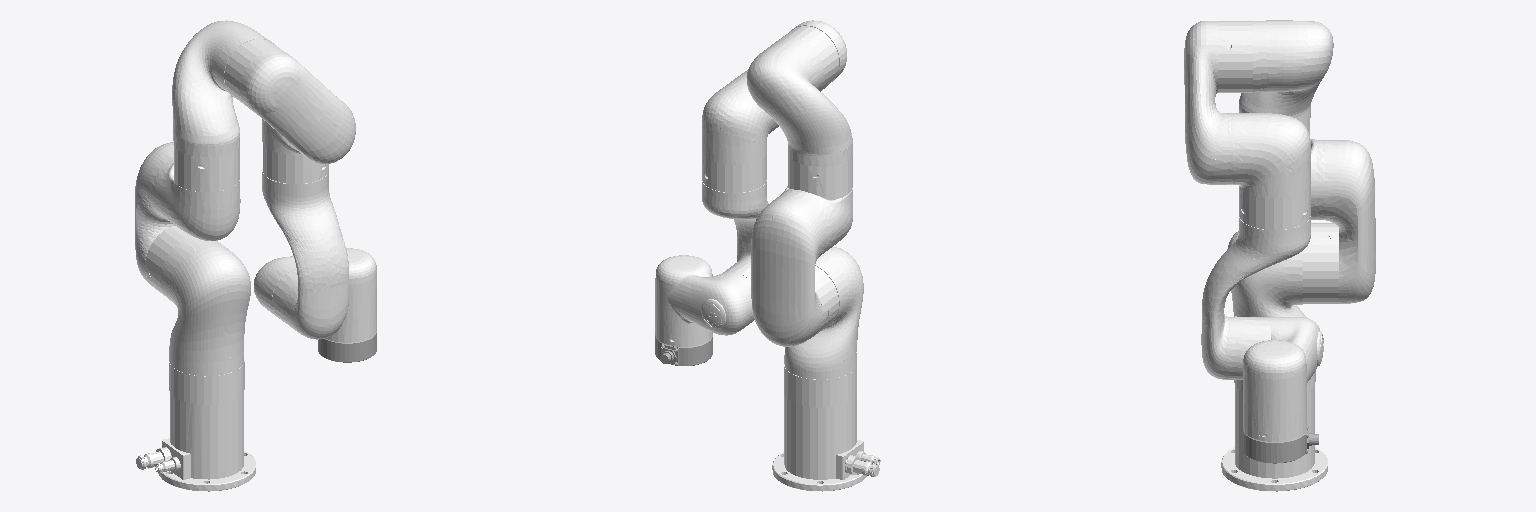
--- Facts derived from the render (not from the file) ---
The picture shows the robot from 3 angles, left to right: view 1: azimuth 30°, elevation 25°; view 2: azimuth 150°, elevation 25°; view 3: azimuth 270°, elevation 25°; orthographic projection.
Model UF_ROBOT with 18 links and 17 joints (13 revolute, 4 fixed), rooted at world, posed every joint at zero.
Visible links, largest first — view 1: link1, link4, link5, link_base, link3, link2, link6, link7; view 2: link2, link3, link_base, link4, link6, link1, link5, link7; view 3: link4, link3, link2, link6, link5, link1, link_base, link7.
Boxes of the visible links, bbox=[...] form: link1: bbox=[145, 226, 250, 375]; link4: bbox=[240, 50, 355, 183]; link5: bbox=[262, 169, 348, 339]; link_base: bbox=[136, 360, 255, 491]; link3: bbox=[172, 20, 283, 156]; link2: bbox=[135, 142, 240, 286]; link6: bbox=[254, 248, 376, 342]; link7: bbox=[318, 332, 376, 362]; link2: bbox=[751, 155, 852, 346]; link3: bbox=[747, 26, 852, 166]; link_base: bbox=[772, 364, 880, 491]; link4: bbox=[702, 20, 846, 192]; link6: bbox=[655, 255, 754, 346]; link1: bbox=[784, 247, 863, 378]; link5: bbox=[702, 180, 768, 280]; link7: bbox=[655, 336, 712, 365]; link4: bbox=[1184, 21, 1310, 229]; link3: bbox=[1218, 20, 1333, 123]; link2: bbox=[1304, 120, 1375, 303]; link6: bbox=[1243, 317, 1323, 441]; link5: bbox=[1201, 216, 1310, 379]; link1: bbox=[1227, 223, 1338, 317]; link_base: bbox=[1221, 371, 1327, 491]; link7: bbox=[1243, 426, 1318, 463].
Bounding box of the posed robot: 0.3358 × 0.2259 × 0.6028 m (x, y, z).
8 mesh visuals loaded from 15 distinct referenced files (8 binary STL); not drawn: 7 (reference not matched to a file when rendering).

robot.urdf — UF_ROBOT:
<?xml version="1.0" ?>
<!-- =================================================================================== -->
<!-- |    This document was autogenerated by xacro from xarm_description/urdf/xarm_device.urdf.xacro | -->
<!-- |    EDITING THIS FILE BY HAND IS NOT RECOMMENDED                                 | -->
<!-- =================================================================================== -->
<robot name="UF_ROBOT">
  <!-- Insert at the beginning of xarm_device_macro.xacro -->
  <material name="Black">
    <color rgba="0.0 0.0 0.0 1.0"/>
  </material>
  <material name="Red">
    <color rgba="0.8 0.0 0.0 1.0"/>
  </material>
  <material name="White">
    <color rgba="1.0 1.0 1.0 1.0"/>
  </material>
  <material name="Silver">
    <color rgba="0.753 0.753 0.753 1.0"/>
  </material>
  <link name="world"/>
  <joint name="world_joint" type="fixed">
    <parent link="world"/>
    <child link="link_base"/>
    <origin rpy="0 0 0" xyz="-0.075 -0.09 0.008"/>
  </joint>
  <link name="link_base">
    <inertial>
      <origin rpy="0 0 0" xyz="-0.095 -0.085 0.0025"/>
      <mass value="0.88556"/>
      <inertia ixx="0.0030595" ixy="0.00012259" ixz="-0.00062705" iyy="0.0037783" iyz="0.00027023" izz="0.0020125"/>
    </inertial>
    <visual>
      <geometry>
        <mesh filename="link_base.stl"/>
      </geometry>
      <origin rpy="0 0 0" xyz="0 0 0"/>
      <material name="White"/>
    </visual>
    <collision>
      <geometry>
        <mesh filename="link_base.stl"/>
      </geometry>
      <origin rpy="0 0 0" xyz="0 0 0"/>
    </collision>
  </link>
  <link name="link1">
    <inertial>
      <origin rpy="0 0 0" xyz="-0.0002 0.02905 -0.01233"/>
      <mass value="2.382"/>
      <inertia ixx="0.0056905" ixy="-1.579e-05" ixz="5.125e-06" iyy="0.0049566" iyz="-0.000873378" izz="0.003316654"/>
    </inertial>
    <visual>
      <geometry>
        <mesh filename="link1.stl"/>
      </geometry>
      <origin rpy="0 0 0" xyz="0 0 0"/>
      <material name="White"/>
    </visual>
    <collision>
      <geometry>
        <mesh filename="link1.stl"/>
      </geometry>
      <origin rpy="0 0 0" xyz="0 0 0"/>
    </collision>
  </link>
  <joint name="joint1" type="revolute">
    <origin rpy="0 0 0" xyz="0 0 0.267"/>
    <parent link="link_base"/>
    <child link="link1"/>
    <axis xyz="0 0 1"/>
    <limit effort="50" lower="-6.283185307179586" upper="6.283185307179586" velocity="3.14"/>
    <dynamics damping="10" friction="1"/>
  </joint>
  <link name="link2">
    <inertial>
      <origin rpy="0 0 0" xyz="0.00022 -0.12856 0.01735"/>
      <mass value="1.869"/>
      <inertia ixx="0.0095989" ixy="1.541e-06" ixz="5.56e-06" iyy="0.00382472" iyz="-0.00317156" izz="0.007565669"/>
    </inertial>
    <visual>
      <geometry>
        <mesh filename="link2.stl"/>
      </geometry>
      <origin rpy="0 0 0" xyz="0 0 0"/>
      <material name="White"/>
    </visual>
    <collision>
      <geometry>
        <mesh filename="link2.stl"/>
      </geometry>
      <origin rpy="0 0 0" xyz="0 0 0"/>
    </collision>
  </link>
  <joint name="joint2" type="revolute">
    <origin rpy="-1.5708 0 0" xyz="0 0 0"/>
    <parent link="link1"/>
    <child link="link2"/>
    <axis xyz="0 0 1"/>
    <limit effort="50" lower="-2.059" upper="2.0944" velocity="3.14"/>
    <dynamics damping="10" friction="1"/>
  </joint>
  <link name="link3">
    <inertial>
      <origin rpy="0 0 0" xyz="0.0466 -0.02463 -0.00768"/>
      <mass value="1.6383"/>
      <inertia ixx="0.00310955" ixy="0.00030837" ixz="-0.00058453" iyy="0.00264483" iyz="0.000338893" izz="0.0026624"/>
    </inertial>
    <visual>
      <geometry>
        <mesh filename="link3.stl"/>
      </geometry>
      <origin rpy="0 0 0" xyz="0 0 0"/>
      <material name="White"/>
    </visual>
    <collision>
      <geometry>
        <mesh filename="link3.stl"/>
      </geometry>
      <origin rpy="0 0 0" xyz="0 0 0"/>
    </collision>
  </link>
  <joint name="joint3" type="revolute">
    <origin rpy="1.5708 0 0" xyz="0 -0.293 0"/>
    <parent link="link2"/>
    <child link="link3"/>
    <axis xyz="0 0 1"/>
    <limit effort="30" lower="-6.283185307179586" upper="6.283185307179586" velocity="3.14"/>
    <dynamics damping="5" friction="1"/>
  </joint>
  <link name="link4">
    <inertial>
      <origin rpy="0 0 0" xyz="0.07047 -0.11575 0.012"/>
      <mass value="1.7269"/>
      <inertia ixx="0.005889" ixy="0.00137112" ixz="0.00088143" iyy="0.00359703" iyz="-0.001762155" izz="0.00543244"/>
    </inertial>
    <visual>
      <geometry>
        <mesh filename="link4.stl"/>
      </geometry>
      <origin rpy="0 0 0" xyz="0 0 0"/>
      <material name="White"/>
    </visual>
    <collision>
      <geometry>
        <mesh filename="link4.stl"/>
      </geometry>
      <origin rpy="0 0 0" xyz="0 0 0"/>
    </collision>
  </link>
  <joint name="joint4" type="revolute">
    <origin rpy="1.5708 0 0" xyz="0.0525 0 0"/>
    <parent link="link3"/>
    <child link="link4"/>
    <axis xyz="0 0 1"/>
    <limit effort="30" lower="-0.19198" upper="3.927" velocity="3.14"/>
    <dynamics damping="5" friction="1"/>
  </joint>
  <link name="link5">
    <inertial>
      <origin rpy="0 0 0" xyz="-0.00032 0.01604 -0.026"/>
      <mass value="1.3203"/>
      <inertia ixx="0.00534665" ixy="1.5117e-05" ixz="-3.69e-07" iyy="0.0049779" iyz="-0.00022132" izz="0.0013624"/>
    </inertial>
    <visual>
      <geometry>
        <mesh filename="link5.stl"/>
      </geometry>
      <origin rpy="0 0 0" xyz="0 0 0"/>
      <material name="White"/>
    </visual>
    <collision>
      <geometry>
        <mesh filename="link5.stl"/>
      </geometry>
      <origin rpy="0 0 0" xyz="0 0 0"/>
    </collision>
  </link>
  <joint name="joint5" type="revolute">
    <origin rpy="1.5708 0 0" xyz="0.0775 -0.3425 0"/>
    <parent link="link4"/>
    <child link="link5"/>
    <axis xyz="0 0 1"/>
    <limit effort="30" lower="-6.283185307179586" upper="6.283185307179586" velocity="3.14"/>
    <dynamics damping="5" friction="1"/>
  </joint>
  <link name="link6">
    <inertial>
      <origin rpy="0 0 0" xyz="0.06469 0.03278 0.02141"/>
      <mass value="1.325"/>
      <inertia ixx="0.0014745" ixy="-0.000488" ixz="0.0002953" iyy="0.0019037" iyz="0.00014749" izz="0.0023652"/>
    </inertial>
    <visual>
      <geometry>
        <mesh filename="link6.stl"/>
      </geometry>
      <origin rpy="0 0 0" xyz="0 0 0"/>
      <material name="White"/>
    </visual>
    <collision>
      <geometry>
        <mesh filename="link6.stl"/>
      </geometry>
      <origin rpy="0 0 0" xyz="0 0 0"/>
    </collision>
  </link>
  <joint name="joint6" type="revolute">
    <origin rpy="1.5708 0 0" xyz="0 0 0"/>
    <parent link="link5"/>
    <child link="link6"/>
    <axis xyz="0 0 1"/>
    <limit effort="20" lower="-1.69297" upper="3.141592653589793" velocity="3.14"/>
    <dynamics damping="2" friction="1"/>
  </joint>
  <link name="link7">
    <inertial>
      <origin rpy="0 0 0" xyz="0 -0.00677 -0.01098"/>
      <mass value="0.17"/>
      <inertia ixx="9.3e-05" ixy="-0.0" ixz="-0.0" iyy="5.87e-05" iyz="-3.6e-06" izz="0.000132"/>
    </inertial>
    <visual>
      <geometry>
        <mesh filename="link7.stl"/>
      </geometry>
      <origin rpy="0 0 0" xyz="0 0 0"/>
      <material name="Silver"/>
    </visual>
    <collision>
      <geometry>
        <mesh filename="end_tool.stl"/>
      </geometry>
      <origin rpy="0 0 0" xyz="0 0 0"/>
    </collision>
  </link>
  <joint name="joint7" type="revolute">
    <origin rpy="-1.5708 0 0" xyz="0.076 0.097 0"/>
    <parent link="link6"/>
    <child link="link7"/>
    <axis xyz="0 0 1"/>
    <limit effort="20" lower="-6.283185307179586" upper="6.283185307179586" velocity="3.14"/>
    <dynamics damping="2" friction="1"/>
  </joint>
  <!-- <link name="${prefix}link_eef" />
    <joint name="${prefix}joint_eef" type="fixed">
      <origin xyz="0 0 0" rpy="0 0 0" />
      <parent link="${prefix}link7" />
      <child link="${prefix}link_eef" />
    </joint> -->
  <transmission name="tran1">
    <type>transmission_interface/SimpleTransmission</type>
    <joint name="joint1">
      <hardwareInterface>hardware_interface/PositionJointInterface</hardwareInterface>
    </joint>
    <actuator name="motor1">
      <hardwareInterface>hardware_interface/PositionJointInterface</hardwareInterface>
      <mechanicalReduction>100</mechanicalReduction>
    </actuator>
  </transmission>
  <transmission name="tran2">
    <type>transmission_interface/SimpleTransmission</type>
    <joint name="joint2">
      <hardwareInterface>hardware_interface/PositionJointInterface</hardwareInterface>
    </joint>
    <actuator name="motor2">
      <hardwareInterface>hardware_interface/PositionJointInterface</hardwareInterface>
      <mechanicalReduction>100</mechanicalReduction>
    </actuator>
  </transmission>
  <transmission name="tran3">
    <type>transmission_interface/SimpleTransmission</type>
    <joint name="joint3">
      <hardwareInterface>hardware_interface/PositionJointInterface</hardwareInterface>
    </joint>
    <actuator name="motor3">
      <hardwareInterface>hardware_interface/PositionJointInterface</hardwareInterface>
      <mechanicalReduction>100</mechanicalReduction>
    </actuator>
  </transmission>
  <transmission name="tran4">
    <type>transmission_interface/SimpleTransmission</type>
    <joint name="joint4">
      <hardwareInterface>hardware_interface/PositionJointInterface</hardwareInterface>
    </joint>
    <actuator name="motor4">
      <hardwareInterface>hardware_interface/PositionJointInterface</hardwareInterface>
      <mechanicalReduction>100</mechanicalReduction>
    </actuator>
  </transmission>
  <transmission name="tran5">
    <type>transmission_interface/SimpleTransmission</type>
    <joint name="joint5">
      <hardwareInterface>hardware_interface/PositionJointInterface</hardwareInterface>
    </joint>
    <actuator name="motor5">
      <hardwareInterface>hardware_interface/PositionJointInterface</hardwareInterface>
      <mechanicalReduction>100</mechanicalReduction>
    </actuator>
  </transmission>
  <transmission name="tran6">
    <type>transmission_interface/SimpleTransmission</type>
    <joint name="joint6">
      <hardwareInterface>hardware_interface/PositionJointInterface</hardwareInterface>
    </joint>
    <actuator name="motor6">
      <hardwareInterface>hardware_interface/PositionJointInterface</hardwareInterface>
      <mechanicalReduction>100</mechanicalReduction>
    </actuator>
  </transmission>
  <transmission name="tran7">
    <type>transmission_interface/SimpleTransmission</type>
    <joint name="joint7">
      <hardwareInterface>hardware_interface/PositionJointInterface</hardwareInterface>
    </joint>
    <actuator name="motor7">
      <hardwareInterface>hardware_interface/PositionJointInterface</hardwareInterface>
      <mechanicalReduction>100</mechanicalReduction>
    </actuator>
  </transmission>
  <gazebo reference="link_base">
    <selfCollide>true</selfCollide>
  </gazebo>
  <gazebo reference="link1">
    <selfCollide>true</selfCollide>
  </gazebo>
  <gazebo reference="link2">
    <selfCollide>true</selfCollide>
  </gazebo>
  <gazebo reference="link3">
    <selfCollide>true</selfCollide>
  </gazebo>
  <gazebo reference="link4">
    <selfCollide>true</selfCollide>
  </gazebo>
  <gazebo reference="link5">
    <selfCollide>true</selfCollide>
  </gazebo>
  <gazebo reference="link6">
    <selfCollide>true</selfCollide>
  </gazebo>
  <gazebo reference="link7">
    <selfCollide>true</selfCollide>
  </gazebo>
  <link name="link_eef"/>
  <joint name="joint_eef" type="fixed">
    <origin rpy="0 0 0" xyz="0 0 0"/>
    <parent link="link7"/>
    <child link="link_eef"/>
  </joint>
  <joint name="gripper_fix" type="fixed">
    <parent link="link_eef"/>
    <child link="xarm_gripper_base_link"/>
    <origin rpy="0 0 3.141592653589793" xyz="0 0 0"/>
  </joint>
  <link name="xarm_gripper_base_link">
    <inertial>
      <origin rpy="0 0 0" xyz="-0.00065489 -0.0018497 0.048028"/>
      <mass value="0.54156"/>
      <inertia ixx="0.00047106" ixy="3.9292E-07" ixz="2.6537E-06" iyy="0.00033072" iyz="-1.0975E-05" izz="0.00025642"/>
    </inertial>
    <visual>
      <geometry>
        <mesh filename="base_link.stl"/>
      </geometry>
      <origin rpy="0 0 0" xyz="0 0 0"/>
      <material name="White"/>
    </visual>
    <collision>
      <geometry>
        <mesh filename="base_link.stl"/>
      </geometry>
      <origin rpy="0 0 0" xyz="0 0 0"/>
    </collision>
  </link>
  <link name="left_outer_knuckle">
    <inertial>
      <origin rpy="0 0 0" xyz="2.9948E-14 0.021559 0.015181"/>
      <mass value="0.033618"/>
      <inertia ixx="1.9111E-05" ixy="-1.8803E-17" ixz="-1.1002E-17" iyy="6.6256E-06" iyz="-7.3008E-06" izz="1.3185E-05"/>
    </inertial>
    <visual>
      <geometry>
        <mesh filename="left_outer_knuckle.stl"/>
      </geometry>
      <origin rpy="0 0 0" xyz="0 0 0"/>
      <material name="Silver"/>
    </visual>
    <collision>
      <geometry>
        <mesh filename="left_outer_knuckle.stl"/>
      </geometry>
      <origin rpy="0 0 0" xyz="0 0 0"/>
    </collision>
  </link>
  <joint name="drive_joint" type="revolute">
    <origin rpy="0 0 0" xyz="0 0.035 0.059098"/>
    <parent link="xarm_gripper_base_link"/>
    <child link="left_outer_knuckle"/>
    <axis xyz="1 0 0"/>
    <limit effort="50" lower="0" upper="0.85" velocity="2"/>
  </joint>
  <link name="left_finger">
    <inertial>
      <origin rpy="0 0 0" xyz="-2.4536E-14 -0.016413 0.029258"/>
      <mass value="0.048304"/>
      <inertia ixx="1.7493E-05" ixy="-4.2156E-19" ixz="6.9164E-18" iyy="1.7225E-05" iyz="4.6433E-06" izz="5.1466E-06"/>
    </inertial>
    <visual>
      <geometry>
        <mesh filename="left_finger.stl"/>
      </geometry>
      <origin rpy="0 0 0" xyz="0 0 0"/>
      <material name="Silver"/>
    </visual>
    <collision>
      <geometry>
        <mesh filename="left_finger.stl"/>
      </geometry>
      <origin rpy="0 0 0" xyz="0 0 0"/>
    </collision>
  </link>
  <joint name="left_finger_joint" type="revolute">
    <origin rpy="0 0 0" xyz="0 0.035465 0.042039"/>
    <parent link="left_outer_knuckle"/>
    <child link="left_finger"/>
    <axis xyz="-1 0 0"/>
    <limit effort="50" lower="0" upper="0.85" velocity="2"/>
    <mimic joint="drive_joint" multiplier="1" offset="0"/>
  </joint>
  <link name="left_inner_knuckle">
    <inertial>
      <origin rpy="0 0 0" xyz="1.86600784687907E-06 0.0220467847633621 0.0261334672830885"/>
      <mass value="0.0230125781256706"/>
      <inertia ixx="6.09490024271906E-06" ixy="6.06651326160071E-11" ixz="7.19102670500635E-11" iyy="6.01955084375188E-06" iyz="-2.75316812991721E-06" izz="5.07862004479903E-06"/>
    </inertial>
    <visual>
      <geometry>
        <mesh filename="left_inner_knuckle.stl"/>
      </geometry>
      <origin rpy="0 0 0" xyz="0 0 0"/>
      <material name="Silver"/>
    </visual>
    <collision>
      <geometry>
        <mesh filename="left_inner_knuckle.stl"/>
      </geometry>
      <origin rpy="0 0 0" xyz="0 0 0"/>
    </collision>
  </link>
  <joint name="left_inner_knuckle_joint" type="revolute">
    <origin rpy="0 0 0" xyz="0 0.02 0.074098"/>
    <parent link="xarm_gripper_base_link"/>
    <child link="left_inner_knuckle"/>
    <axis xyz="1 0 0"/>
    <limit effort="50" lower="0" upper="0.85" velocity="2"/>
    <mimic joint="drive_joint" multiplier="1" offset="0"/>
  </joint>
  <link name="right_outer_knuckle">
    <inertial>
      <origin rpy="0 0 0" xyz="-3.1669E-14 -0.021559 0.015181"/>
      <mass value="0.033618"/>
      <inertia ixx="1.9111E-05" ixy="-1.8789E-17" ixz="1.0986E-17" iyy="6.6256E-06" iyz="7.3008E-06" izz="1.3185E-05"/>
    </inertial>
    <visual>
      <geometry>
        <mesh filename="right_outer_knuckle.stl"/>
      </geometry>
      <origin rpy="0 0 0" xyz="0 0 0"/>
      <material name="Silver"/>
    </visual>
    <collision>
      <geometry>
        <mesh filename="right_outer_knuckle.stl"/>
      </geometry>
      <origin rpy="0 0 0" xyz="0 0 0"/>
    </collision>
  </link>
  <joint name="right_outer_knuckle_joint" type="revolute">
    <origin rpy="0 0 0" xyz="0 -0.035 0.059098"/>
    <parent link="xarm_gripper_base_link"/>
    <child link="right_outer_knuckle"/>
    <axis xyz="-1 0 0"/>
    <limit effort="50" lower="0" upper="0.85" velocity="2"/>
    <mimic joint="drive_joint" multiplier="1" offset="0"/>
  </joint>
  <link name="right_finger">
    <inertial>
      <origin rpy="0 0 0" xyz="2.5618E-14 0.016413 0.029258"/>
      <mass value="0.048304"/>
      <inertia ixx="1.7493E-05" ixy="-5.0014E-19" ixz="-7.5079E-18" iyy="1.7225E-05" iyz="-4.6435E-06" izz="5.1466E-06"/>
    </inertial>
    <visual>
      <geometry>
        <mesh filename="right_finger.stl"/>
      </geometry>
      <origin rpy="0 0 0" xyz="0 0 0"/>
      <material name="Silver"/>
    </visual>
    <collision>
      <geometry>
        <mesh filename="right_finger.stl"/>
      </geometry>
      <origin rpy="0 0 0" xyz="0 0 0"/>
    </collision>
  </link>
  <joint name="right_finger_joint" type="revolute">
    <origin rpy="0 0 0" xyz="0 -0.035465 0.042039"/>
    <parent link="right_outer_knuckle"/>
    <child link="right_finger"/>
    <axis xyz="1 0 0"/>
    <limit effort="50" lower="0" upper="0.85" velocity="2"/>
    <mimic joint="drive_joint" multiplier="1" offset="0"/>
  </joint>
  <link name="right_inner_knuckle">
    <inertial>
      <origin rpy="0 0 0" xyz="1.866E-06 -0.022047 0.026133"/>
      <mass value="0.023013"/>
      <inertia ixx="6.0949E-06" ixy="-6.0665E-11" ixz="7.191E-11" iyy="6.0197E-06" iyz="2.7531E-06" izz="5.0784E-06"/>
    </inertial>
    <visual>
      <geometry>
        <mesh filename="right_inner_knuckle.stl"/>
      </geometry>
      <origin rpy="0 0 0" xyz="0 0 0"/>
      <material name="Silver"/>
    </visual>
    <collision>
      <geometry>
        <mesh filename="right_inner_knuckle.stl"/>
      </geometry>
      <origin rpy="0 0 0" xyz="0 0 0"/>
    </collision>
  </link>
  <joint name="right_inner_knuckle_joint" type="revolute">
    <origin rpy="0 0 0" xyz="0 -0.02 0.074098"/>
    <parent link="xarm_gripper_base_link"/>
    <child link="right_inner_knuckle"/>
    <axis xyz="-1 0 0"/>
    <limit effort="50" lower="0" upper="0.85" velocity="2"/>
    <mimic joint="drive_joint" multiplier="1" offset="0"/>
  </joint>
  <link name="link_tcp"/>
  <joint name="joint_tcp" type="fixed">
    <origin rpy="3.1415 -1.5707 0" xyz="0 0 0.152"/>
    <parent link="xarm_gripper_base_link"/>
    <child link="link_tcp"/>
  </joint>
  <transmission name="drive_joint_trans">
    <type>transmission_interface/SimpleTransmission</type>
    <joint name="drive_joint">
      <hardwareInterface>hardware_interface/PositionJointInterface</hardwareInterface>
    </joint>
    <actuator name="drive_joint_motor">
      <hardwareInterface>hardware_interface/PositionJointInterface</hardwareInterface>
      <mechanicalReduction>1</mechanicalReduction>
    </actuator>
  </transmission>
  <gazebo reference="xarm_gripper_base_link">
    <selfCollide>false</selfCollide>
  </gazebo>
  <gazebo reference="left_outer_knuckle">
    <selfCollide>false</selfCollide>
  </gazebo>
  <gazebo reference="left_finger">
    <selfCollide>false</selfCollide>
  </gazebo>
  <gazebo reference="left_inner_knuckle">
    <selfCollide>false</selfCollide>
  </gazebo>
  <gazebo reference="right_outer_knuckle">
    <selfCollide>false</selfCollide>
  </gazebo>
  <gazebo reference="right_finger">
    <selfCollide>false</selfCollide>
  </gazebo>
  <gazebo reference="right_inner_knuckle">
    <selfCollide>false</selfCollide>
  </gazebo>
  <gazebo>
    <plugin filename="libgazebo_grasp_fix.so" name="gazebo_grasp_fix">
      <arm>
        <arm_name>xarm_gripper</arm_name>
        <palm_link>link7</palm_link>
        <gripper_link>left_inner_knuckle</gripper_link>
        <gripper_link>right_inner_knuckle</gripper_link>
        <!-- <gripper_link>${prefix}left_outer_knuckle</gripper_link>
          <gripper_link>${prefix}right_outer_knuckle</gripper_link> -->
        <gripper_link>left_finger</gripper_link>
        <gripper_link>right_finger</gripper_link>
      </arm>
      <forces_angle_tolerance>100</forces_angle_tolerance>
      <update_rate>10</update_rate>
      <grip_count_threshold>2</grip_count_threshold>
      <max_grip_count>3</max_grip_count>
      <release_tolerance>0.0198</release_tolerance>
      <disable_collisions_on_attach>false</disable_collisions_on_attach>
      <contact_topic>__default_topic__</contact_topic>
    </plugin>
  </gazebo>
  <!-- <xacro:property name="filename" value="libroboticsgroup_upatras_gazebo_mimic_joint_plugin.so" /> -->
  <gazebo>
    <plugin filename="libroboticsgroup_gazebo_mimic_joint_plugin.so" name="left_finger_jointmimic_joint_plugin">
      <joint>drive_joint</joint>
      <mimicJoint>left_finger_joint</mimicJoint>
      <multiplier>1.0</multiplier>
      <offset>0</offset>
      <sensitiveness>0.0</sensitiveness>
      <!-- if absolute difference between setpoint and process value is below this threshold, do nothing; 0.0 = disable [rad] -->
      <maxEffort>10.0</maxEffort>
    </plugin>
  </gazebo>
  <!-- <xacro:property name="filename" value="libroboticsgroup_upatras_gazebo_mimic_joint_plugin.so" /> -->
  <gazebo>
    <plugin filename="libroboticsgroup_gazebo_mimic_joint_plugin.so" name="left_inner_knuckle_jointmimic_joint_plugin">
      <joint>drive_joint</joint>
      <mimicJoint>left_inner_knuckle_joint</mimicJoint>
      <multiplier>1.0</multiplier>
      <offset>0</offset>
      <sensitiveness>0.0</sensitiveness>
      <!-- if absolute difference between setpoint and process value is below this threshold, do nothing; 0.0 = disable [rad] -->
      <maxEffort>10.0</maxEffort>
    </plugin>
  </gazebo>
  <!-- <xacro:property name="filename" value="libroboticsgroup_upatras_gazebo_mimic_joint_plugin.so" /> -->
  <gazebo>
    <plugin filename="libroboticsgroup_gazebo_mimic_joint_plugin.so" name="right_outer_knuckle_jointmimic_joint_plugin">
      <joint>drive_joint</joint>
      <mimicJoint>right_outer_knuckle_joint</mimicJoint>
      <multiplier>1.0</multiplier>
      <offset>0</offset>
      <sensitiveness>0.0</sensitiveness>
      <!-- if absolute difference between setpoint and process value is below this threshold, do nothing; 0.0 = disable [rad] -->
      <maxEffort>10.0</maxEffort>
    </plugin>
  </gazebo>
  <!-- <xacro:property name="filename" value="libroboticsgroup_upatras_gazebo_mimic_joint_plugin.so" /> -->
  <gazebo>
    <plugin filename="libroboticsgroup_gazebo_mimic_joint_plugin.so" name="right_finger_jointmimic_joint_plugin">
      <joint>drive_joint</joint>
      <mimicJoint>right_finger_joint</mimicJoint>
      <multiplier>1.0</multiplier>
      <offset>0</offset>
      <sensitiveness>0.0</sensitiveness>
      <!-- if absolute difference between setpoint and process value is below this threshold, do nothing; 0.0 = disable [rad] -->
      <maxEffort>10.0</maxEffort>
    </plugin>
  </gazebo>
  <!-- <xacro:property name="filename" value="libroboticsgroup_upatras_gazebo_mimic_joint_plugin.so" /> -->
  <gazebo>
    <plugin filename="libroboticsgroup_gazebo_mimic_joint_plugin.so" name="right_inner_knuckle_jointmimic_joint_plugin">
      <joint>drive_joint</joint>
      <mimicJoint>right_inner_knuckle_joint</mimicJoint>
      <multiplier>1.0</multiplier>
      <offset>0</offset>
      <sensitiveness>0.0</sensitiveness>
      <!-- if absolute difference between setpoint and process value is below this threshold, do nothing; 0.0 = disable [rad] -->
      <maxEffort>10.0</maxEffort>
    </plugin>
  </gazebo>
  <gazebo>
    <plugin filename="libgazebo_ros_control.so" name="gazebo_ros_control">
      <robotNamespace>xarm</robotNamespace>
      <!-- <controlPeriod>0.0001</controlPeriod> -->
      <robotSimType>gazebo_ros_control/DefaultRobotHWSim</robotSimType>
      <legacyModeNS>true</legacyModeNS>
      <!-- <preserveWorldVelocity>true</preserveWorldVelocity> -->
    </plugin>
  </gazebo>
  <!-- Insert at the end of xarm_device_macro.xacro -->
</robot>
